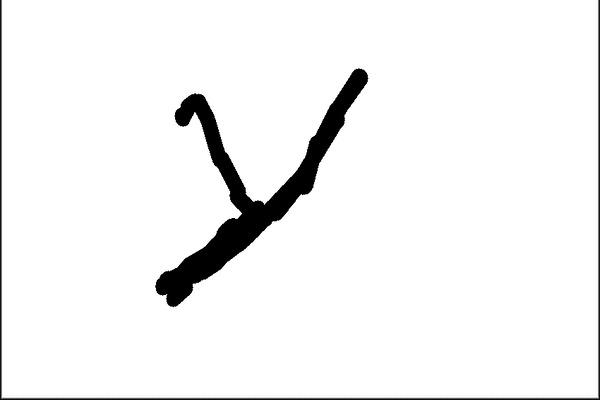Y: (134, 57, 386, 316)
